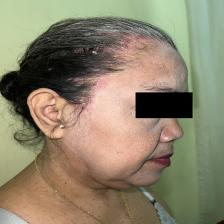Psoriasis vulgaris: (111, 29, 160, 66), (70, 70, 116, 107)
